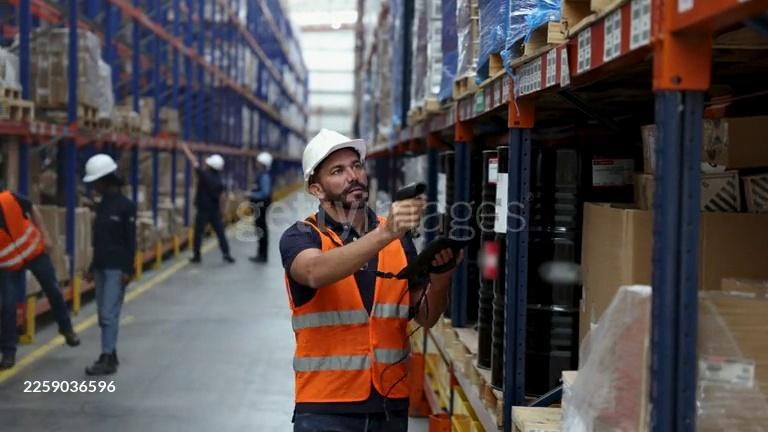helmet: (302, 128, 368, 185), (82, 153, 119, 182), (206, 155, 225, 169), (256, 152, 272, 164)
person: (278, 127, 467, 432), (0, 173, 84, 375), (71, 152, 138, 377), (188, 152, 238, 266), (246, 151, 274, 264)
